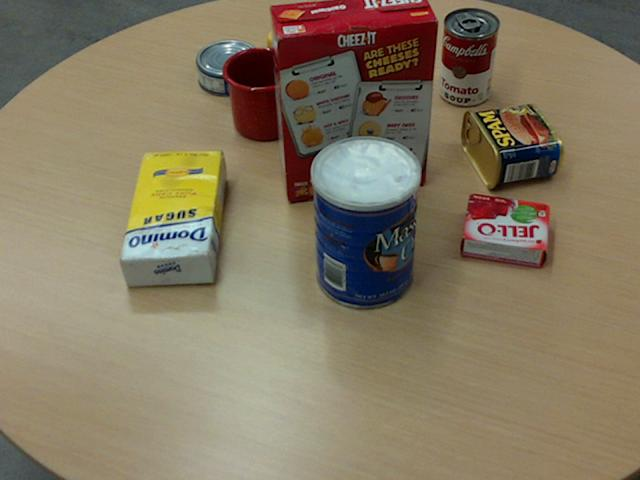cracker_box: (269, 0, 438, 200)
gelatin_box: (460, 192, 551, 265)
large_marker: (396, 40, 417, 130)
master_chef_can: (310, 135, 419, 309)
mug: (221, 46, 312, 140)
mustard_bottle: (266, 10, 407, 91)
potted_meat_can: (459, 104, 562, 188)
sugar_box: (117, 149, 223, 286)
tomato_soup_can: (439, 8, 499, 105)
tuna_fish_can: (195, 39, 261, 95)
